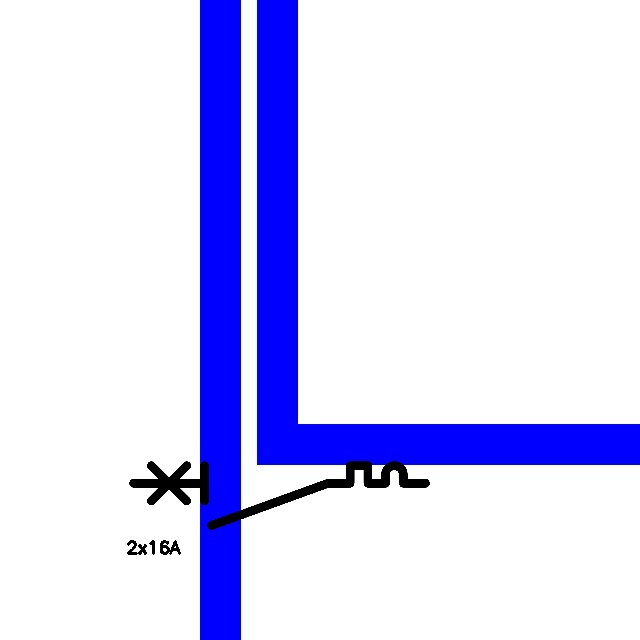interruptor_termomagnetico: (126, 458, 433, 533)
